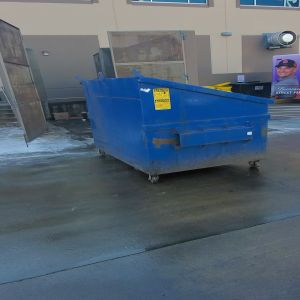Dumpster: (82, 80, 271, 182)
